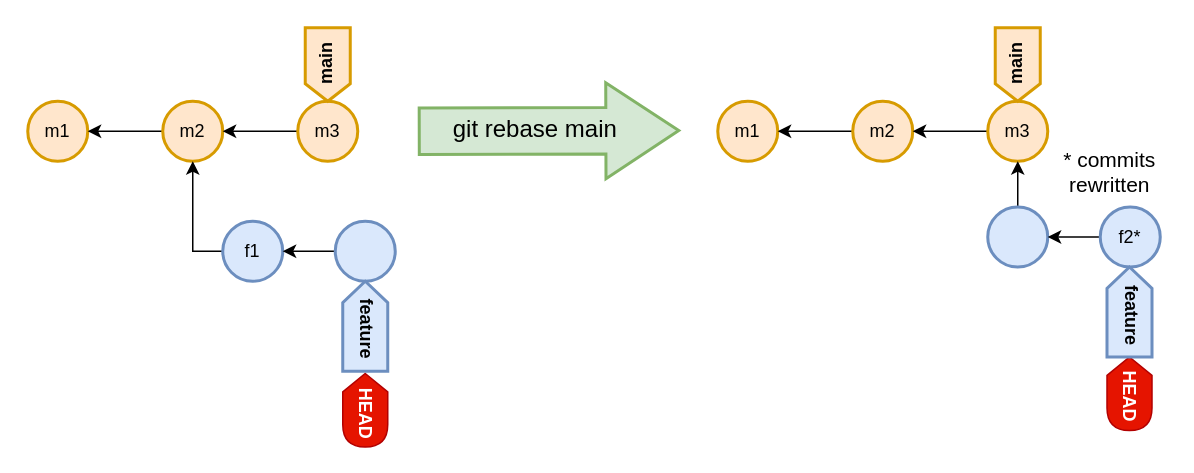
The diagram is 1194 pixels wide and 473 high, and some of its shapes have lost their labels. The shapes that lost their labels are listed below. From the top down, each one's centre as x and y in pixels, then its label:
At [364,250]: "f2".
At [1017,236]: "f1*".
